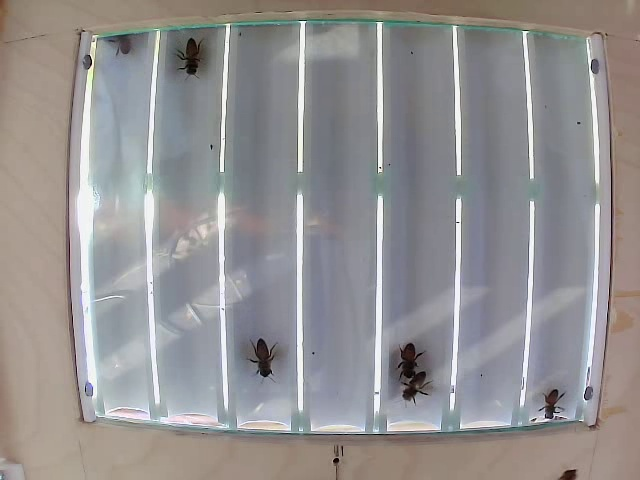bee: (232, 333, 284, 395), (168, 37, 211, 88), (390, 341, 425, 384), (541, 392, 573, 436), (114, 34, 145, 66), (403, 376, 431, 400)
